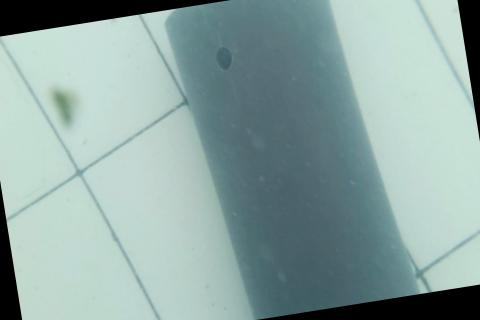kebocoran: (212, 41, 237, 74)
